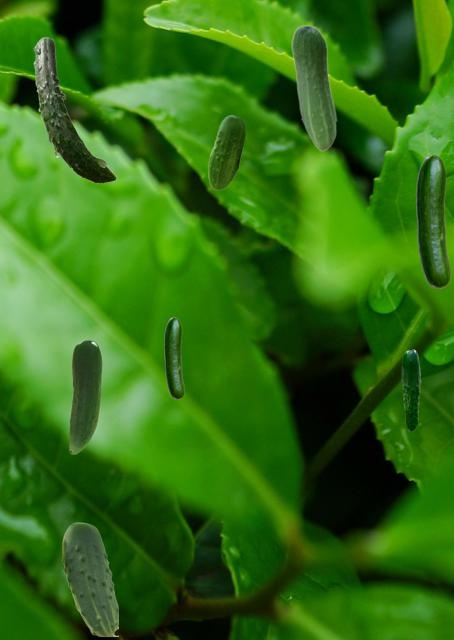cucumber: (33, 37, 115, 182), (62, 522, 117, 635), (291, 24, 336, 150), (416, 155, 449, 287), (69, 340, 101, 453), (208, 115, 244, 189), (164, 317, 183, 398), (401, 349, 420, 430)
